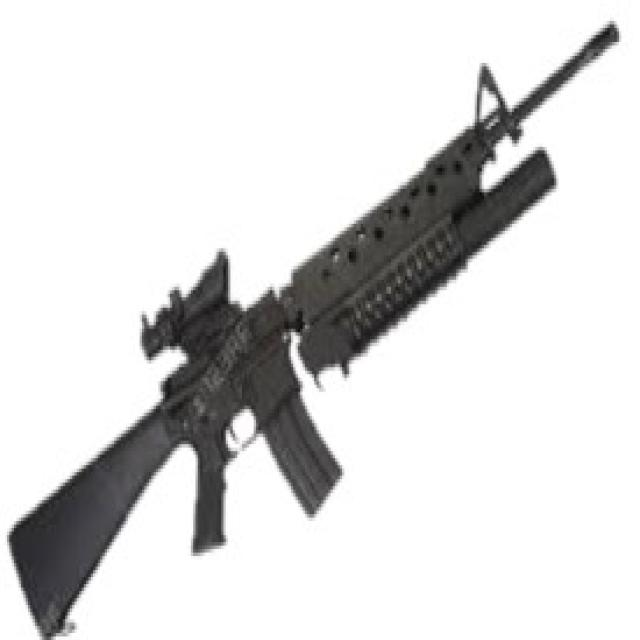rifle: (1, 15, 622, 640)
